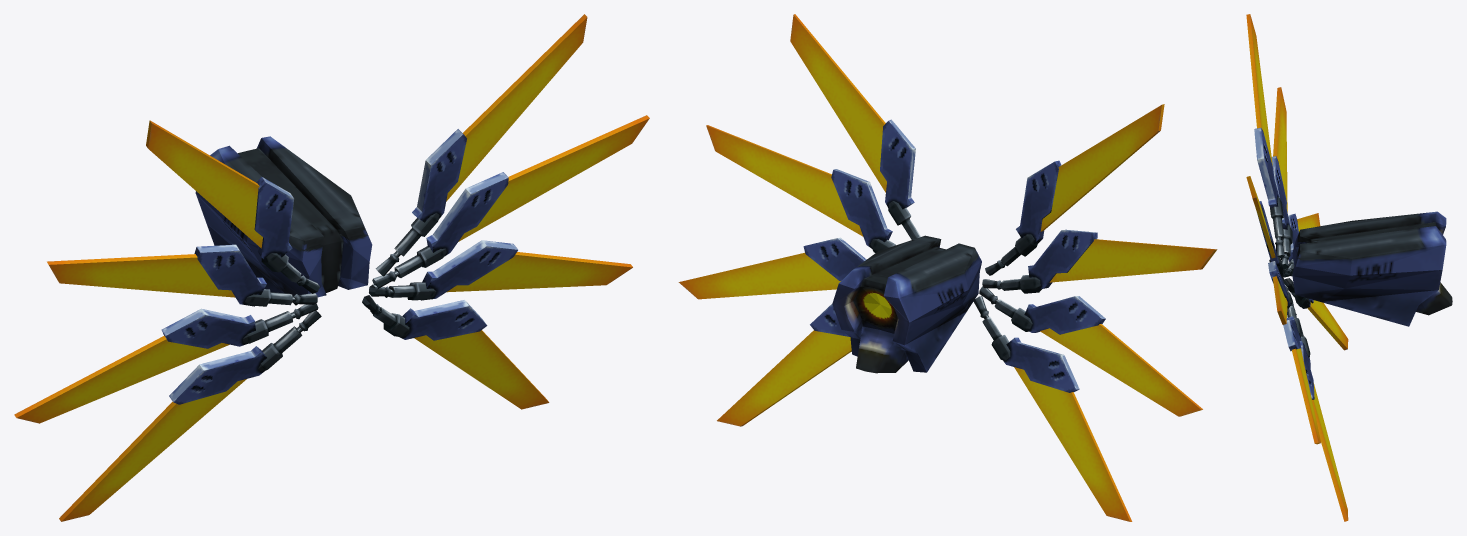
3 views of the same model, side by side, from view 1: azimuth 30°, elevation 25°; view 2: azimuth 150°, elevation 25°; view 3: azimuth 270°, elevation 25° (orthographic). The views are drawn at different scales.
Parts seen in each view (by area): view 1: v1_mdl_1; view 2: v1_mdl_1; view 3: v1_mdl_1.
Boxes of the visible parts, <box> form: v1_mdl_1: <box>14,14,649,521</box>; v1_mdl_1: <box>678,14,1217,521</box>; v1_mdl_1: <box>1246,14,1452,521</box>.
Size of the model in its own units: 96.44 by 65.79 by 36.57.
